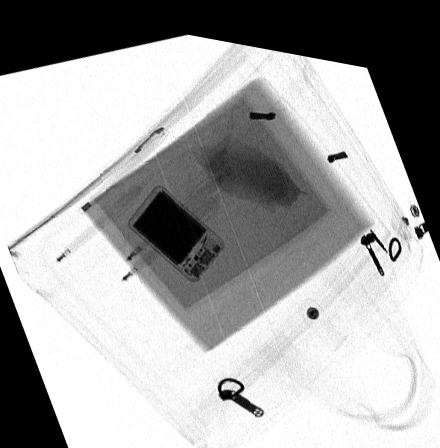Powerbank: (126, 179, 224, 274)
